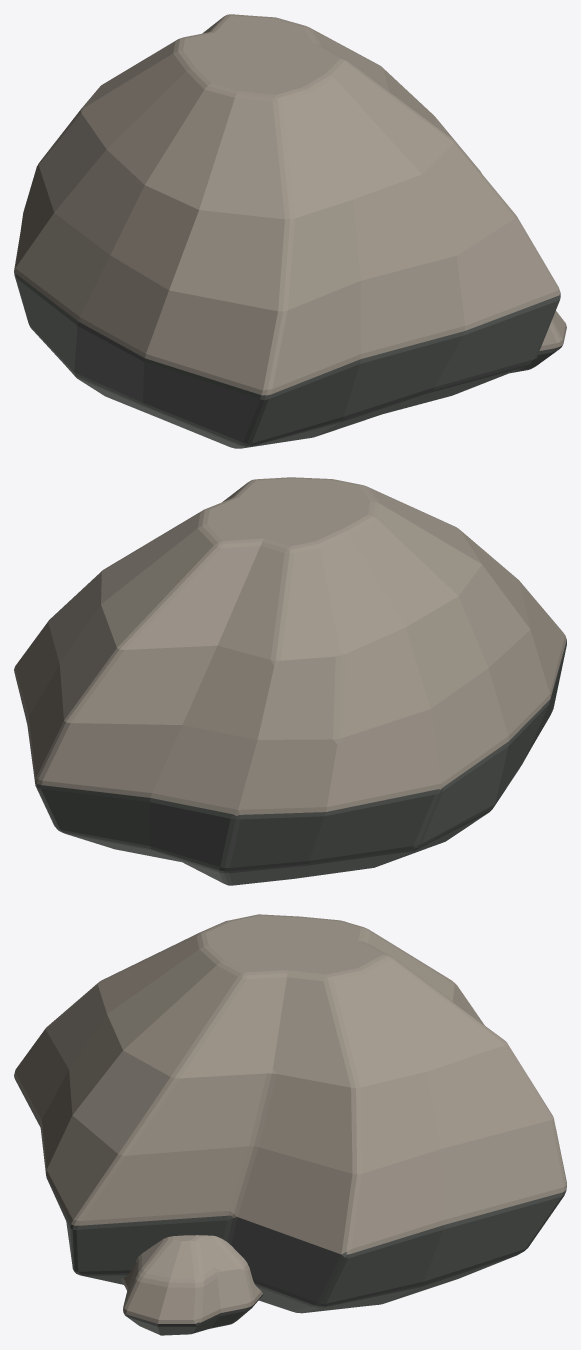
File: Refined_Rock_Outcrop.fbx
3 renders of one model, top to bottom at view 1: azimuth 30°, elevation 25°; view 2: azimuth 150°, elevation 25°; view 3: azimuth 270°, elevation 25°, orthographic. The views are drawn at different scales.
Parts seen in each view (by area): view 1: Rock.007, Rock_Fragment.002; view 2: Rock.007; view 3: Rock.007, Rock_Fragment.002.
Boxes of the visible parts, left/top/right/bottom form: Rock.007: left=14, top=14, right=560, bottom=448; Rock_Fragment.002: left=510, top=311, right=566, bottom=373; Rock.007: left=14, top=477, right=566, bottom=885; Rock.007: left=14, top=914, right=566, bottom=1313; Rock_Fragment.002: left=121, top=1235, right=262, bottom=1335.
Size of the model in its own units: 2.42 by 1.55 by 2.67.
